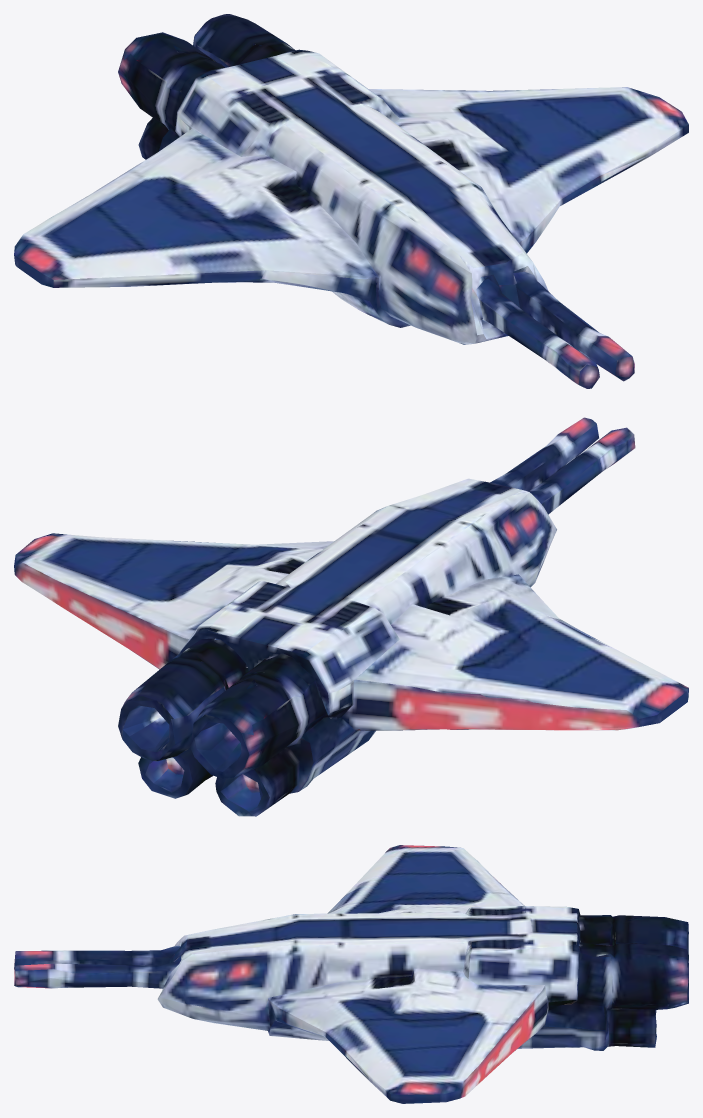
Rendered from enemy-shooter-s3.glb.
The picture shows the model from 3 angles, top to bottom: view 1: azimuth 30°, elevation 25°; view 2: azimuth 150°, elevation 25°; view 3: azimuth 270°, elevation 25°; orthographic projection. The views are drawn at different scales.
Parts seen in each view (by area): view 1: 85775bae-5782-4804-8cdf-365772ca311a_texturing.obj; view 2: 85775bae-5782-4804-8cdf-365772ca311a_texturing.obj; view 3: 85775bae-5782-4804-8cdf-365772ca311a_texturing.obj.
Part boxes in pixels (box(x1,y1,x2,y2)): 85775bae-5782-4804-8cdf-365772ca311a_texturing.obj: box(14, 14, 688, 388); 85775bae-5782-4804-8cdf-365772ca311a_texturing.obj: box(14, 417, 688, 816); 85775bae-5782-4804-8cdf-365772ca311a_texturing.obj: box(14, 845, 688, 1103).
Bounding box in the file's own units: 1.75 × 0.3463 × 1.99.
Materials: 1 (1 with a texture image).
